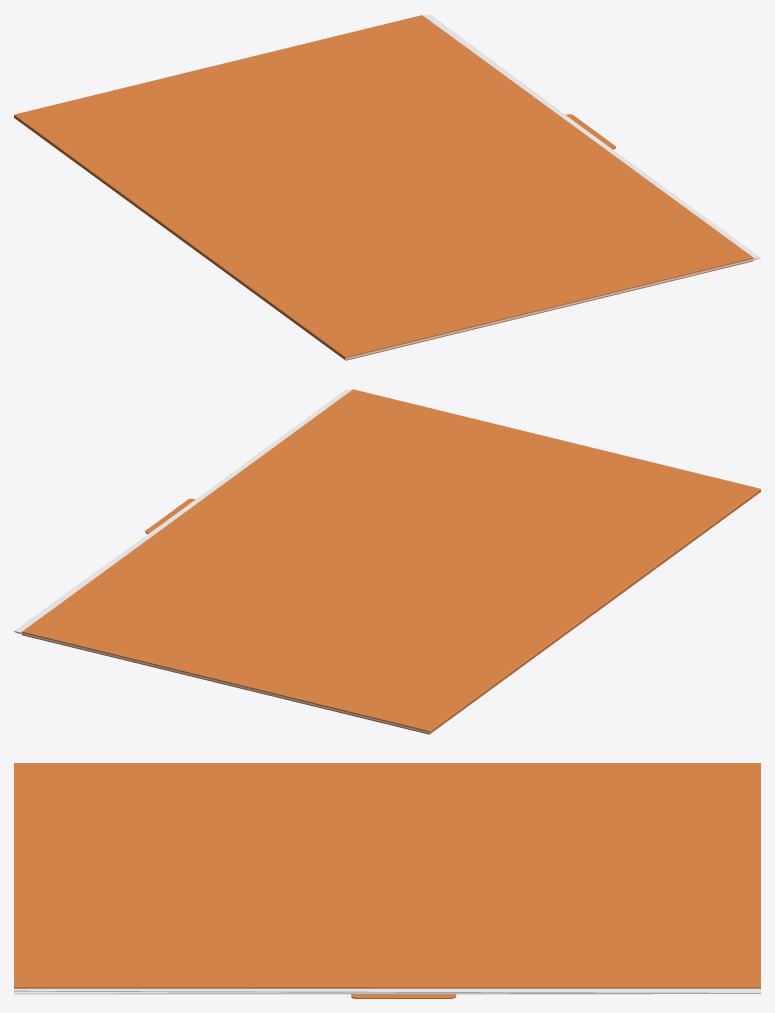
File: WSDocs_001.fbx
3 views of the same model, one above another, from view 1: azimuth 30°, elevation 25°; view 2: azimuth 150°, elevation 25°; view 3: azimuth 270°, elevation 25° (orthographic). The views are drawn at different scales.
Visible parts, largest first — view 1: File1; view 2: File1; view 3: File1.
Part boxes in pixels (x1,y1,x2,y2): File1: [14, 14, 760, 360]; File1: [14, 389, 760, 734]; File1: [14, 763, 760, 998].
Bounding box in the file's own units: 61.73 × 0.5084 × 84.
